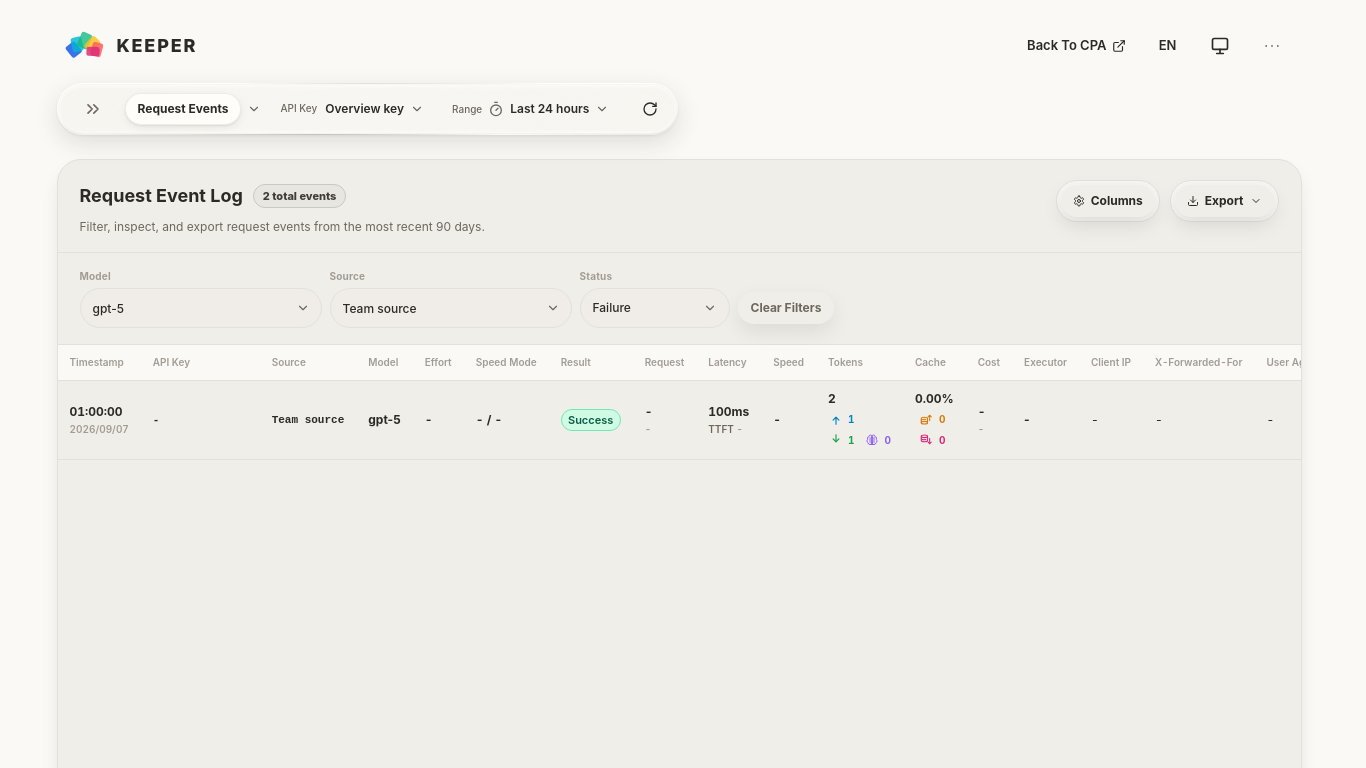
Scenario: UsagePage top API Key request event filter › restores the top selection and clears only Model, Source and Status
This screenshot has width=1366, height=768.
Click the button "API Key Overview key": (352, 109) [271, 87, 433, 131]
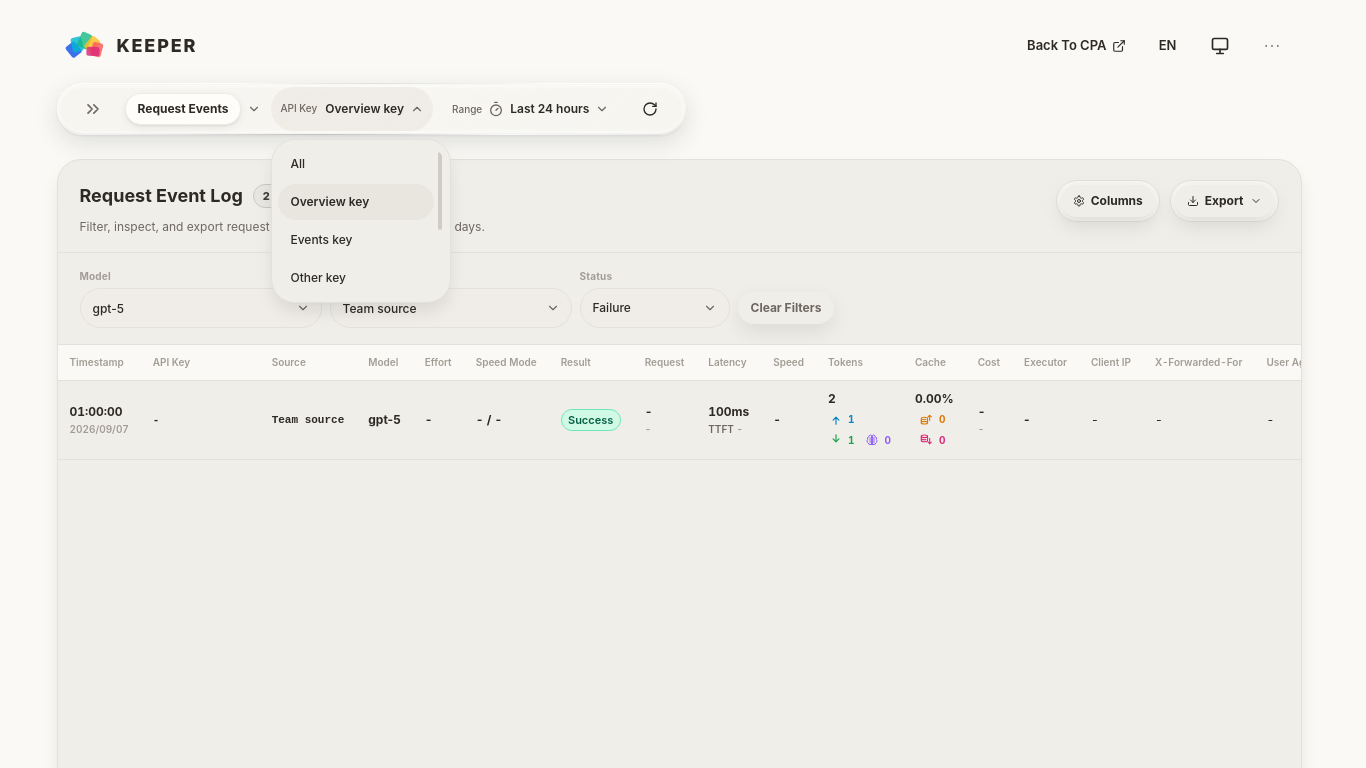
Check: the option "Other key" is shown
Click the option "Other key": (356, 278) [278, 260, 434, 296]
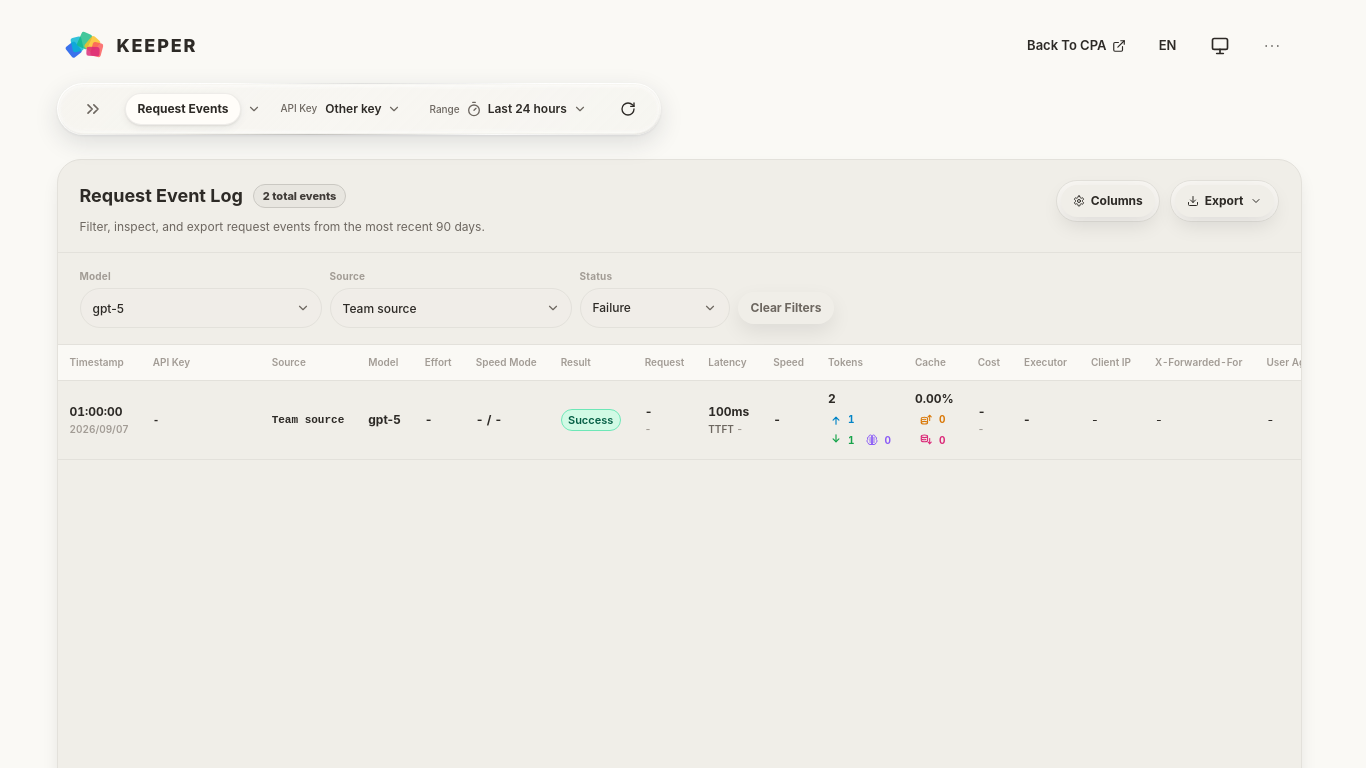
Check: the button "API Key Other key" is shown, box [271, 87, 410, 131]
Click the button "Clear Filters": (786, 308) [738, 292, 834, 324]
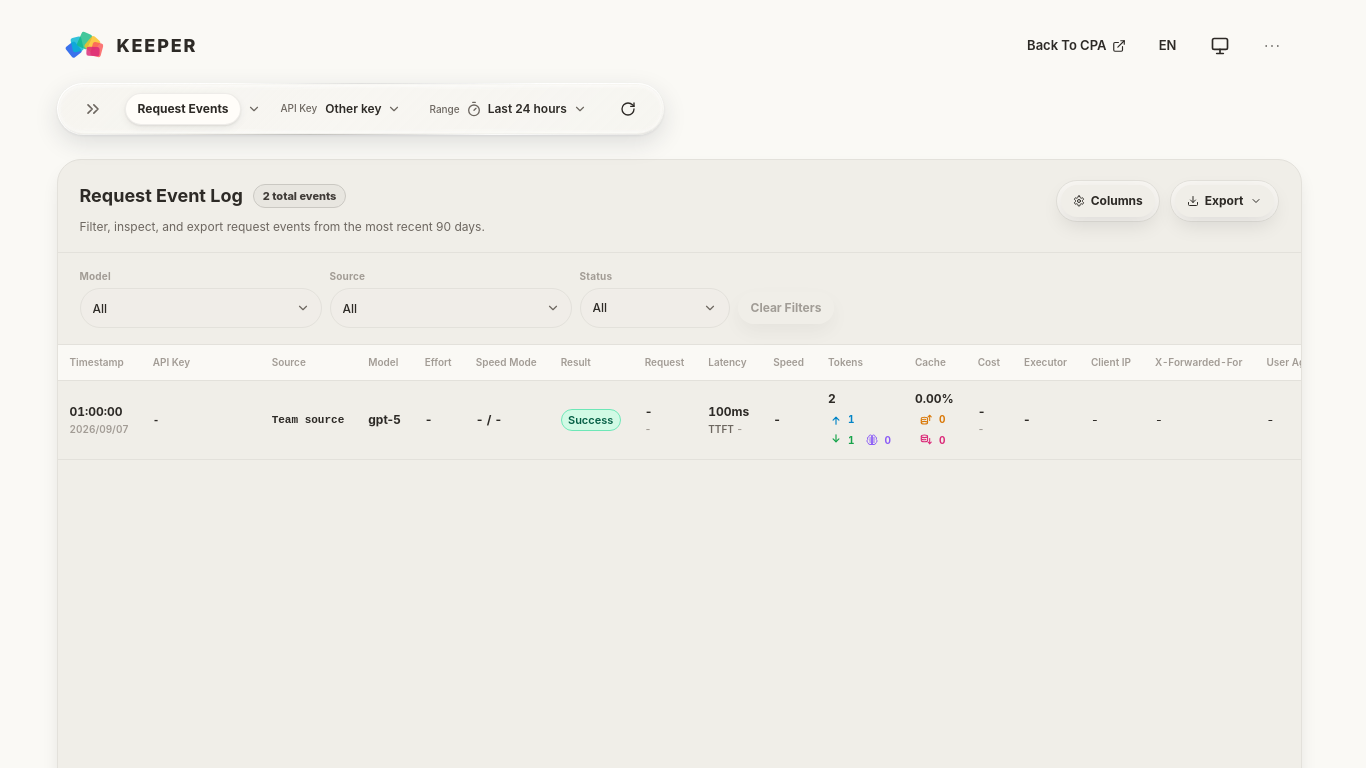
Check: the button "Clear Filters" is disabled, box [738, 292, 834, 324]
